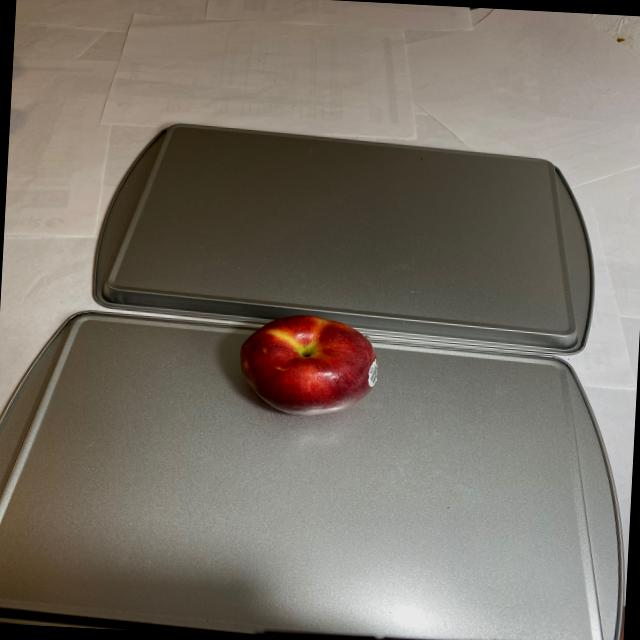apple: (232, 310, 380, 416)
